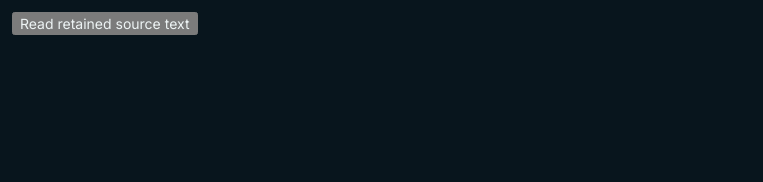
Scenario: keeps earlier text during a continuation failure and retries the same offset
Click the button "Read retained source text" at (105, 24), box top-left (12, 12), bottom-right (198, 35)
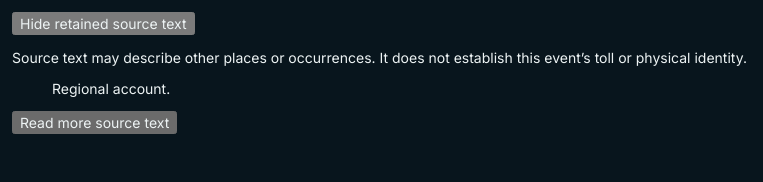
Click the button "Read more source text" at (95, 122), box top-left (12, 111), bottom-right (177, 134)
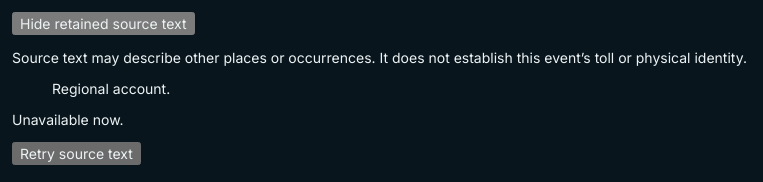
expect the text "Regional account." is shown: met, box top-left (52, 80), bottom-right (174, 97)
expect the message reads "Unavailable now.": met, box top-left (12, 111), bottom-right (124, 128)
Click the button "Retry source text" at (76, 154), box top-left (12, 142), bottom-right (141, 165)
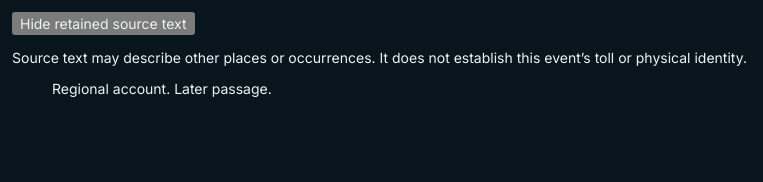
expect the text "Regional account. Later passage." is shown: met, box top-left (52, 80), bottom-right (272, 97)
